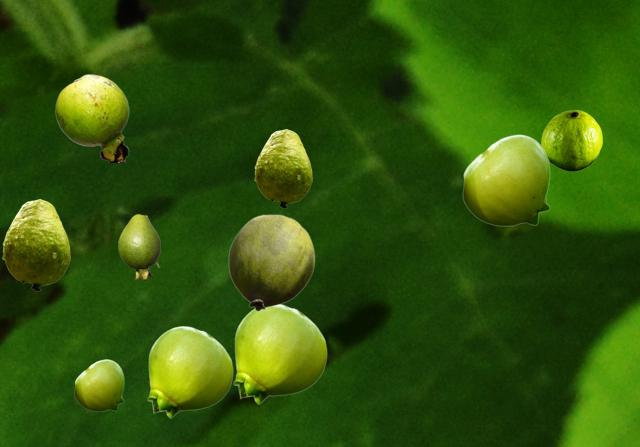guava: (233, 304, 326, 403), (228, 214, 314, 310), (462, 134, 549, 225), (147, 326, 232, 417), (55, 74, 128, 161), (2, 199, 69, 290), (254, 129, 311, 207), (541, 110, 601, 170), (118, 214, 159, 279), (74, 359, 123, 410)
